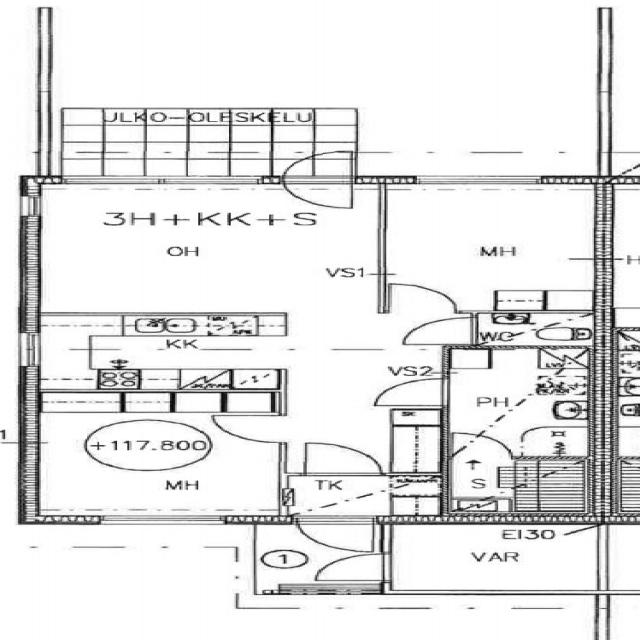door: (296, 516, 372, 554), (305, 442, 381, 476), (283, 148, 352, 184), (283, 176, 352, 211), (404, 317, 478, 344), (375, 379, 450, 405), (213, 416, 288, 442), (317, 554, 391, 580), (389, 284, 456, 312), (453, 433, 511, 459)
